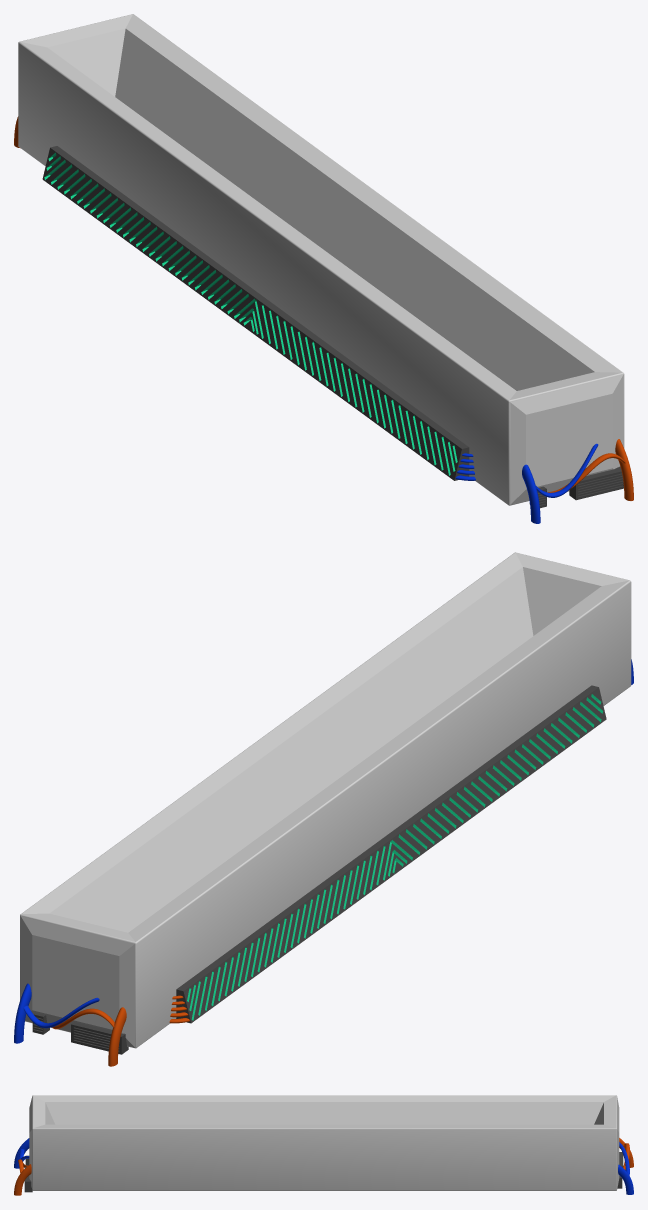
File: проектор.FBX
The picture shows the model from 3 angles, top to bottom: view 1: azimuth 30°, elevation 25°; view 2: azimuth 150°, elevation 25°; view 3: azimuth 270°, elevation 25°; orthographic projection. The views are drawn at different scales.
Visible parts, largest first — view 1: ChamferBox001, Box003, Group001, Box004; view 2: ChamferBox001, Box003, Group001, Box001; view 3: ChamferBox001, Cylinder007, Cylinder002, Cylinder008.
Boxes of the visible parts, x1=… form: ChamferBox001: x1=18, y1=14, x2=624, y2=505; Box003: x1=42, y1=146, x2=469, y2=480; Group001: x1=44, y1=152, x2=457, y2=475; Box004: x1=569, y1=466, x2=623, y2=500; ChamferBox001: x1=20, y1=552, x2=631, y2=1048; Box003: x1=176, y1=685, x2=606, y2=1023; Group001: x1=187, y1=694, x2=602, y2=1020; Box001: x1=71, y1=1022, x2=128, y2=1054; ChamferBox001: x1=29, y1=1095, x2=619, y2=1190; Cylinder007: x1=14, y1=1164, x2=31, y2=1195; Cylinder002: x1=618, y1=1164, x2=633, y2=1194; Cylinder008: x1=14, y1=1138, x2=29, y2=1168.
Size of the model in its own units: 15.71 by 13.2 by 108.
